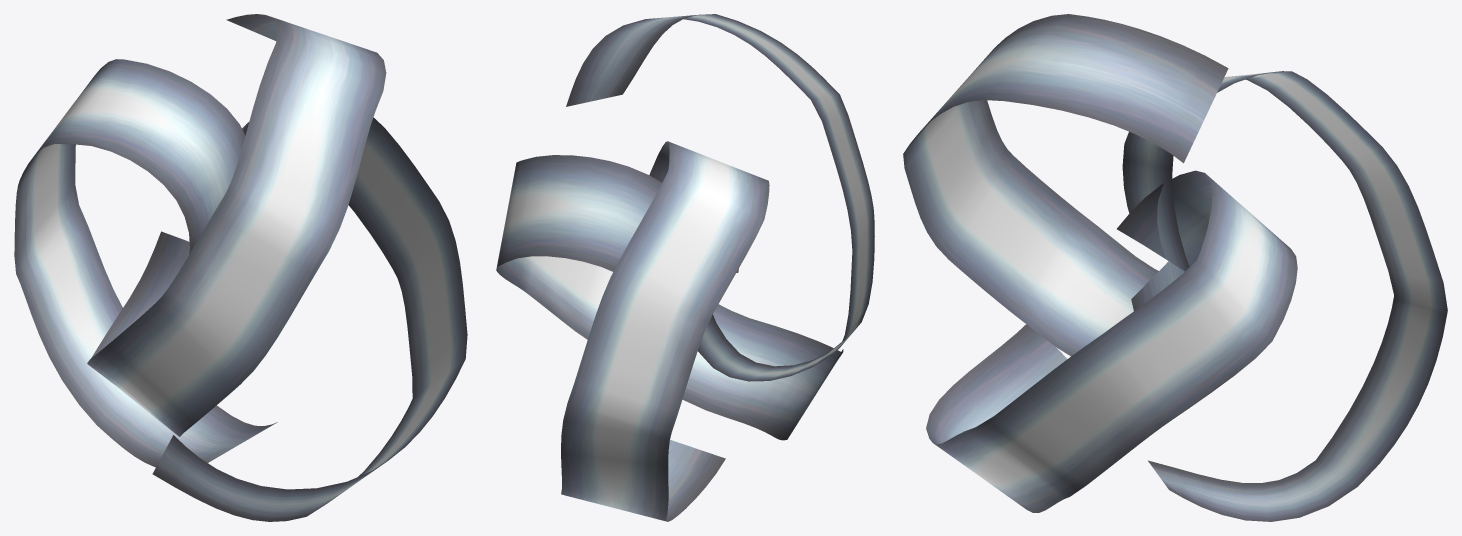
File: Goblin_shaman_Heal_inn.FBX
3 views of the same model, side by side, from view 1: azimuth 30°, elevation 25°; view 2: azimuth 150°, elevation 25°; view 3: azimuth 270°, elevation 25° (orthographic). The views are drawn at different scales.
Parts seen in each view (by area): view 1: Plane004; view 2: Plane004; view 3: Plane004.
Part boxes in pixels (bbox=[...]): Plane004: bbox=[14, 14, 467, 521]; Plane004: bbox=[496, 14, 874, 521]; Plane004: bbox=[903, 14, 1447, 521].
Size of the model in its own units: 39.46 by 50.36 by 49.9.
